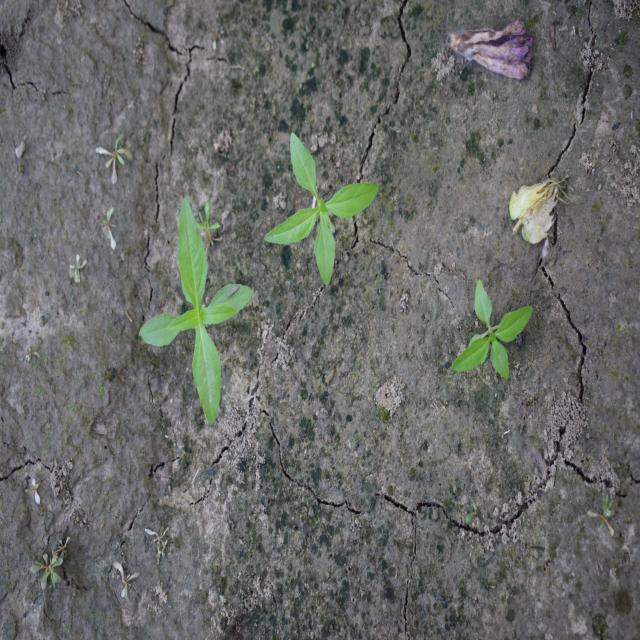Carpetweed: (26, 536, 73, 592), (94, 134, 135, 186)
Eclipta: (138, 195, 255, 427), (262, 130, 381, 288), (451, 276, 534, 382)
